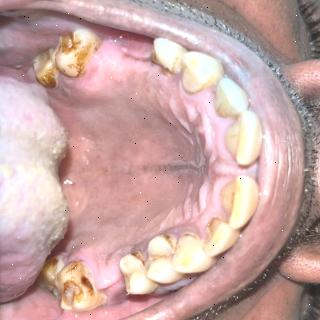LL1BC_sdecay: (153, 36, 185, 73)
LL2M_sdecay: (54, 30, 100, 77)
LL3M_sdecay: (32, 47, 58, 89)
LLCI_healthy: (226, 112, 260, 167)
LLC_healthy: (182, 51, 219, 92)
LLLI_healthy: (214, 77, 247, 116)
LR1BC_mdecay: (146, 235, 182, 284)
LR2BC_mdecay: (119, 251, 157, 295)
LR2M_sdecay: (58, 261, 106, 310)
LR3M_sdecay: (42, 260, 59, 296)
LRCI_healthy: (221, 176, 257, 228)
LRC_mdecay: (174, 232, 210, 273)
LRLI_healthy: (207, 218, 236, 255)
